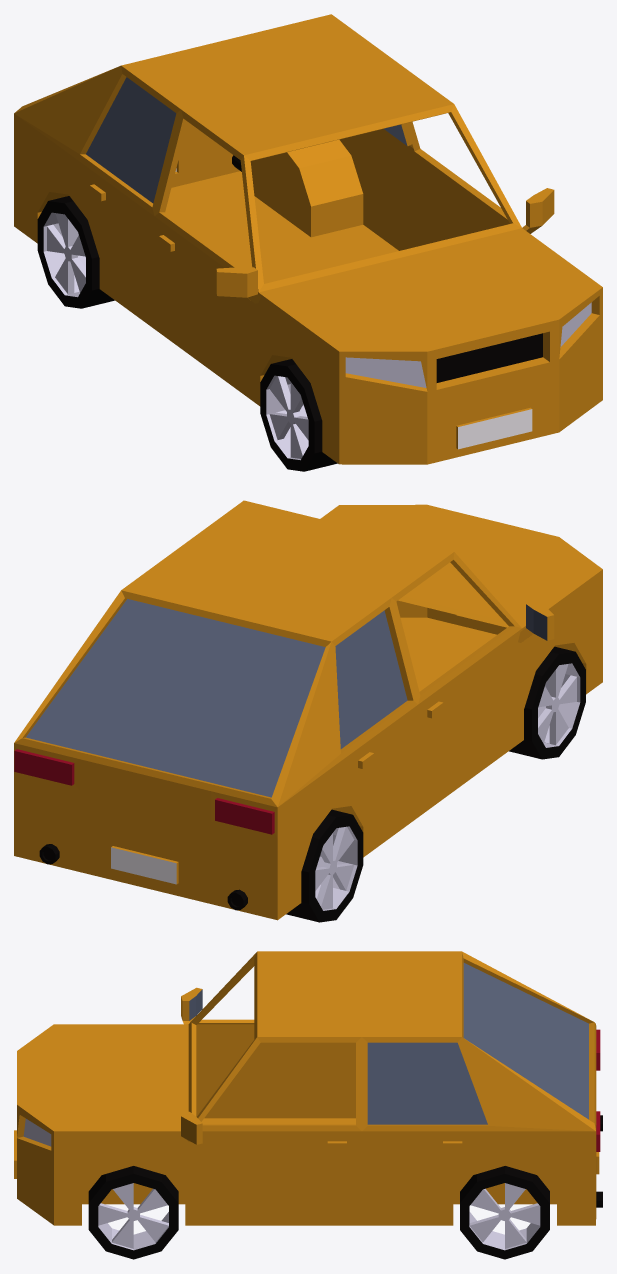
File: 001-Hatchback.glb
The picture shows the model from 3 angles, top to bottom: view 1: azimuth 30°, elevation 25°; view 2: azimuth 150°, elevation 25°; view 3: azimuth 270°, elevation 25°; orthographic projection. The views are drawn at different scales.
Parts seen in each view (by area): view 1: Hatchback, Hatchback wheel front right, Hatchback wheel rear right; view 2: Hatchback, Hatchback wheel rear right, Hatchback wheel front right; view 3: Hatchback, Hatchback wheel front left, Hatchback wheel rear left.
Boxes of the visible parts, bbox=[...] form: Hatchback: bbox=[14, 14, 602, 464]; Hatchback wheel front right: bbox=[260, 359, 337, 471]; Hatchback wheel rear right: bbox=[37, 196, 114, 308]; Hatchback: bbox=[14, 500, 602, 920]; Hatchback wheel rear right: bbox=[286, 809, 363, 922]; Hatchback wheel front right: bbox=[509, 646, 585, 759]; Hatchback: bbox=[14, 951, 602, 1225]; Hatchback wheel front left: bbox=[88, 1166, 178, 1259]; Hatchback wheel rear left: bbox=[460, 1166, 549, 1259].
Bounding box in the file's own units: 2.81 × 2.01 × 5.11.
